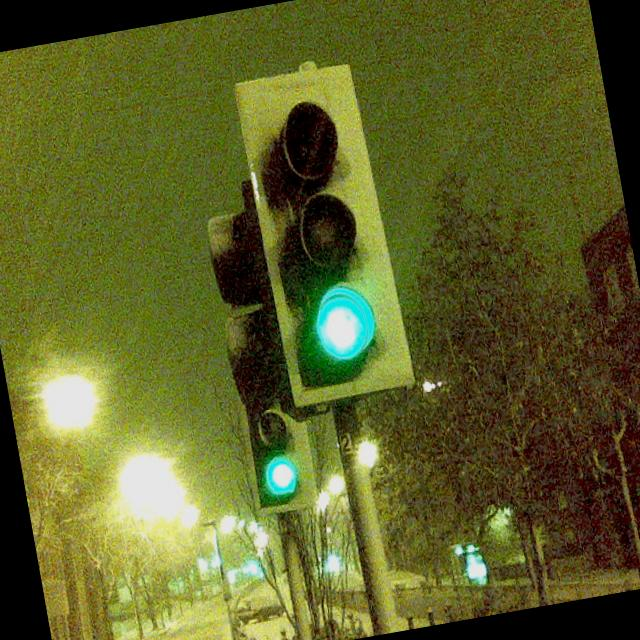Vehicle: (232, 595, 285, 626)
